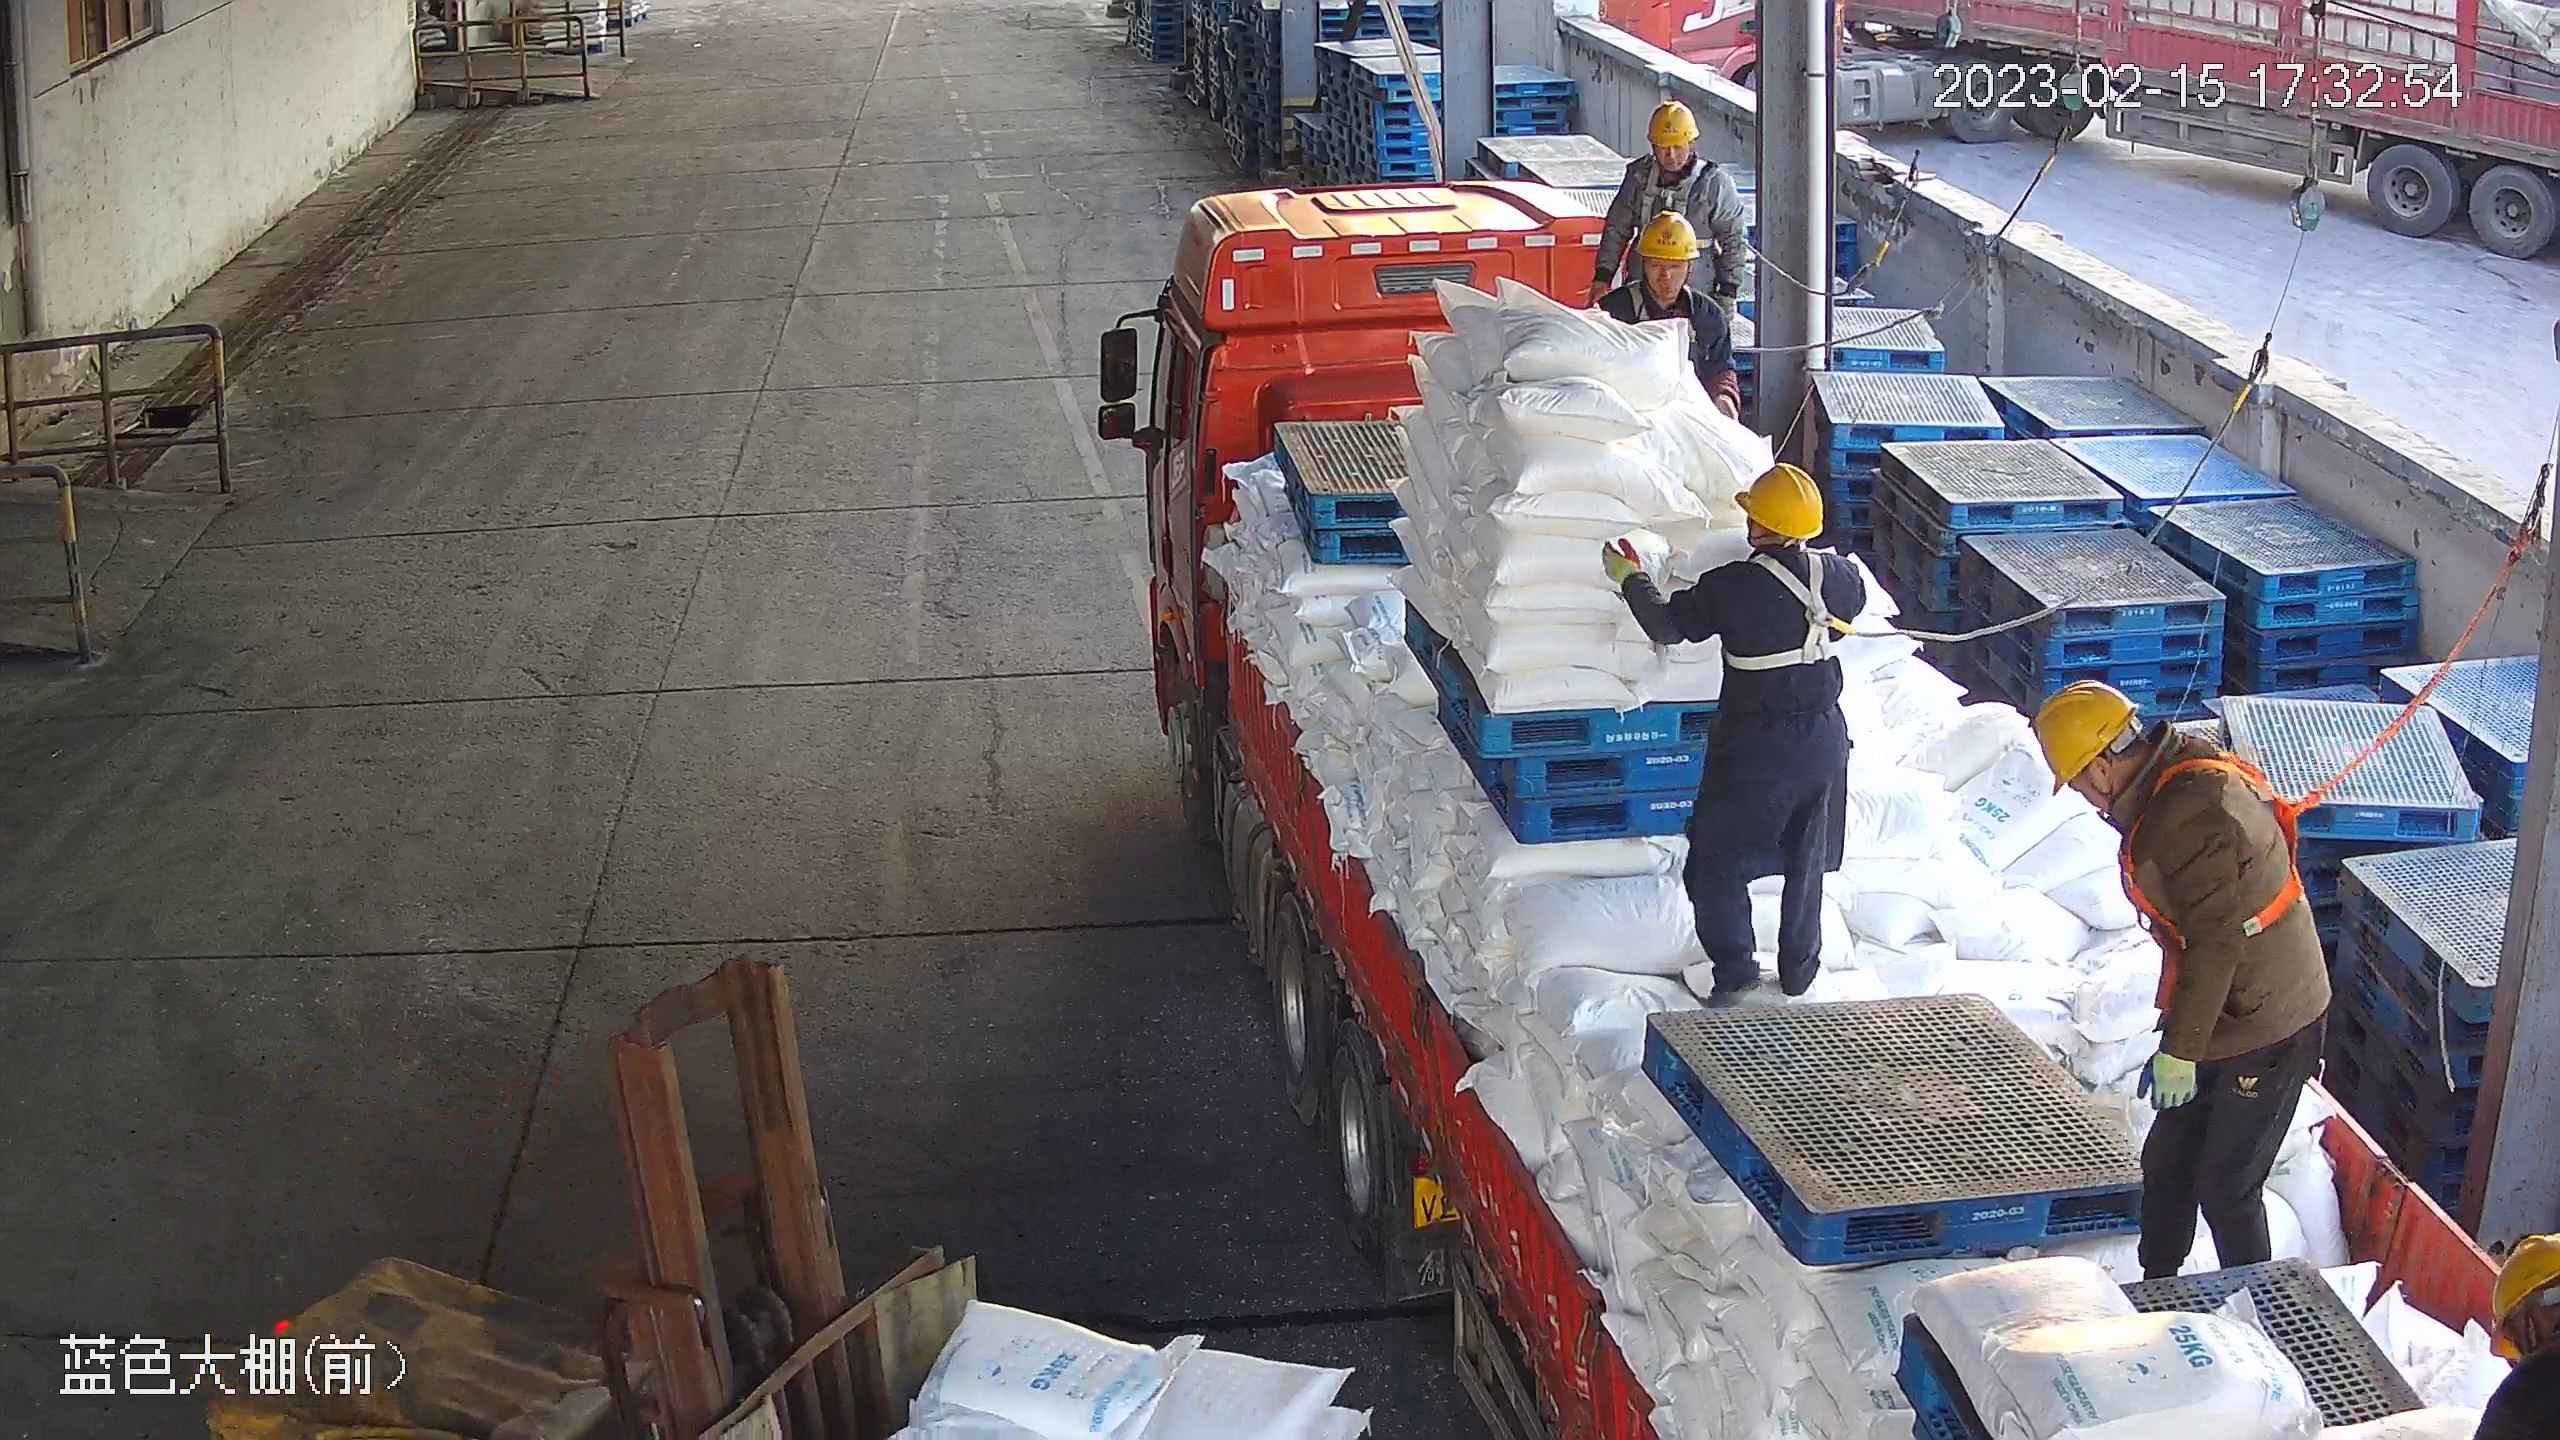belt: (2126, 749, 2322, 1014), (1698, 544, 1889, 672), (1638, 156, 1721, 255)
head: (2024, 674, 2292, 853), (1699, 460, 1864, 605), (1612, 97, 1737, 190)
helmet: (2024, 677, 2140, 799), (1731, 461, 1826, 542), (1634, 209, 1701, 261), (1645, 99, 1702, 148)
people: (2024, 673, 2335, 1284), (1600, 455, 1868, 1006)
truck: (1141, 177, 2560, 1440)
